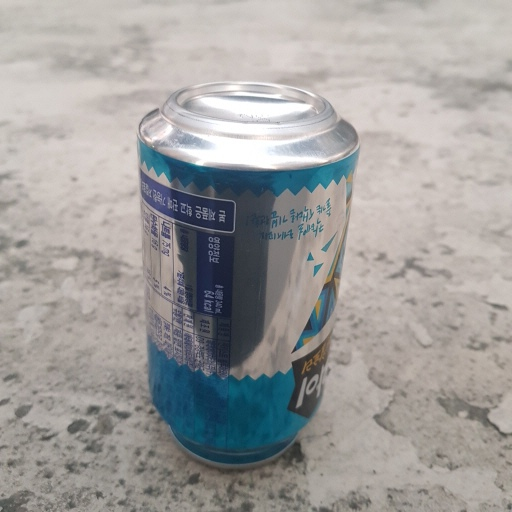Metal_0: (132, 79, 362, 475)
